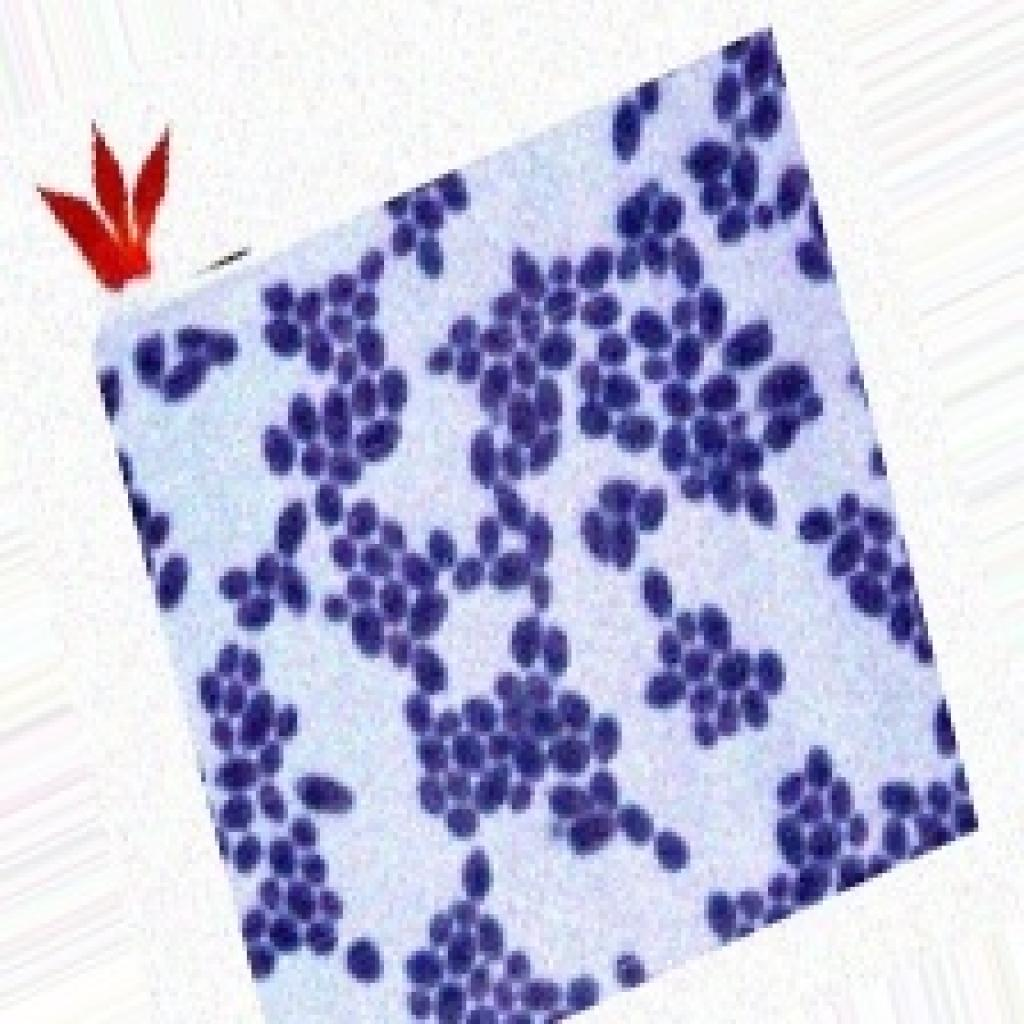Sphericalbacteria: (87, 23, 978, 1019)
